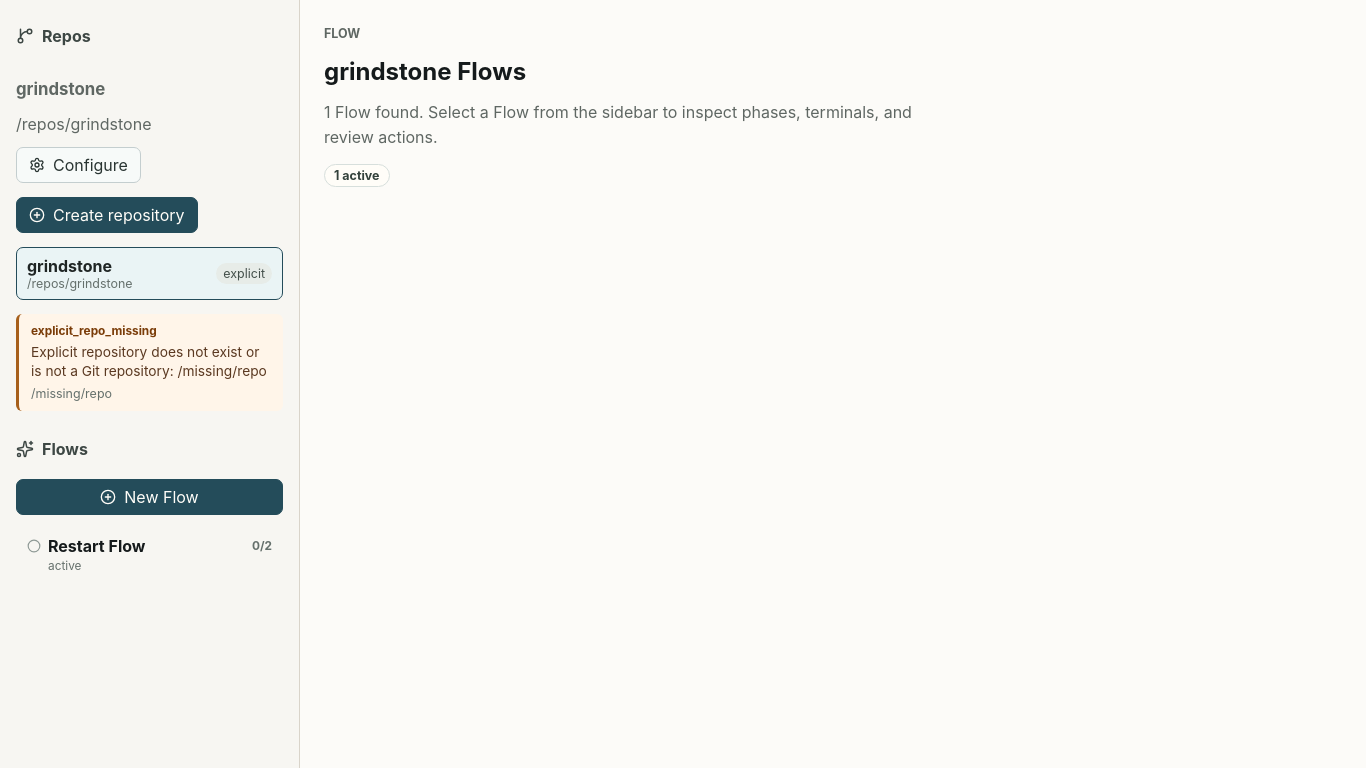
Test case: App shell › restarts a blocked phase from backend affordances and shows manual update errors
Click the button "Restart Flow 0/2 active" at (97, 546), box [16, 527, 283, 582]
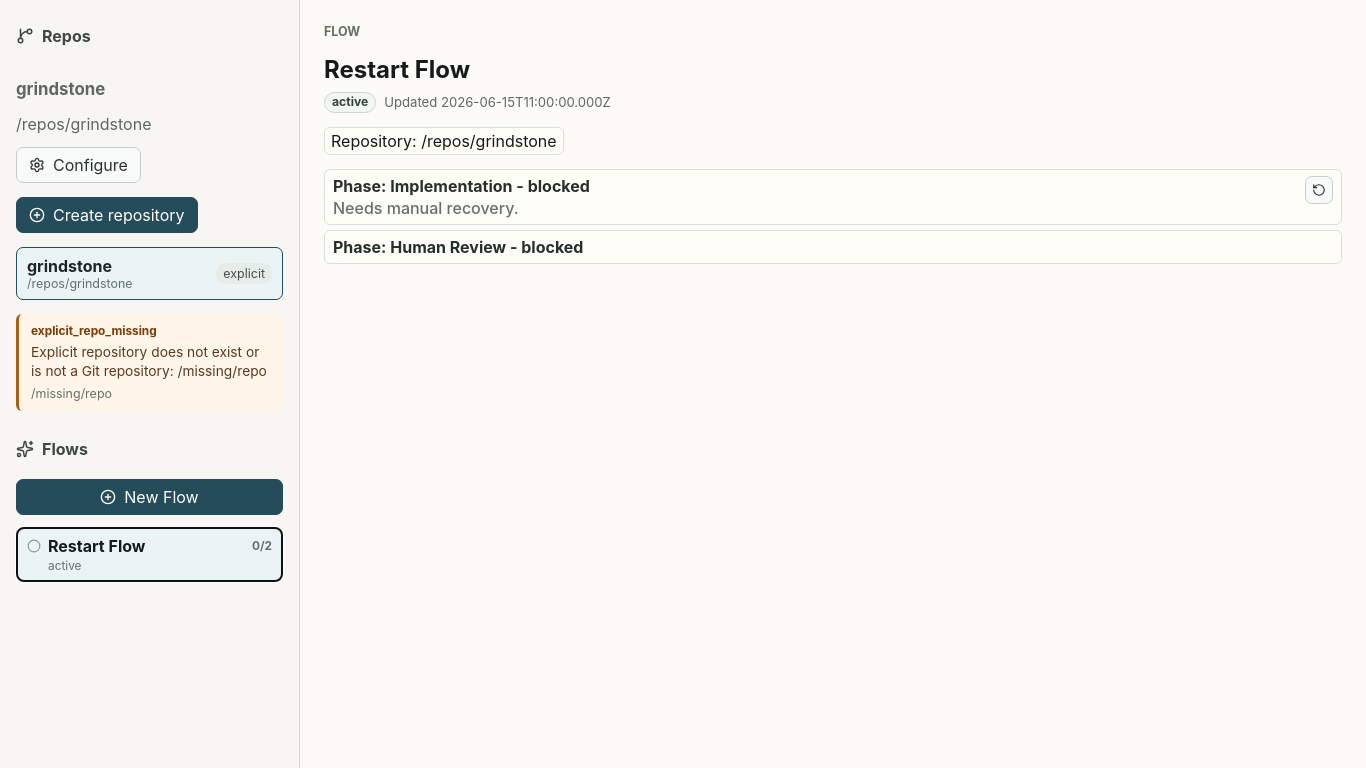
Click the button named "restart implementation" at (1319, 190), box [1305, 176, 1333, 204]
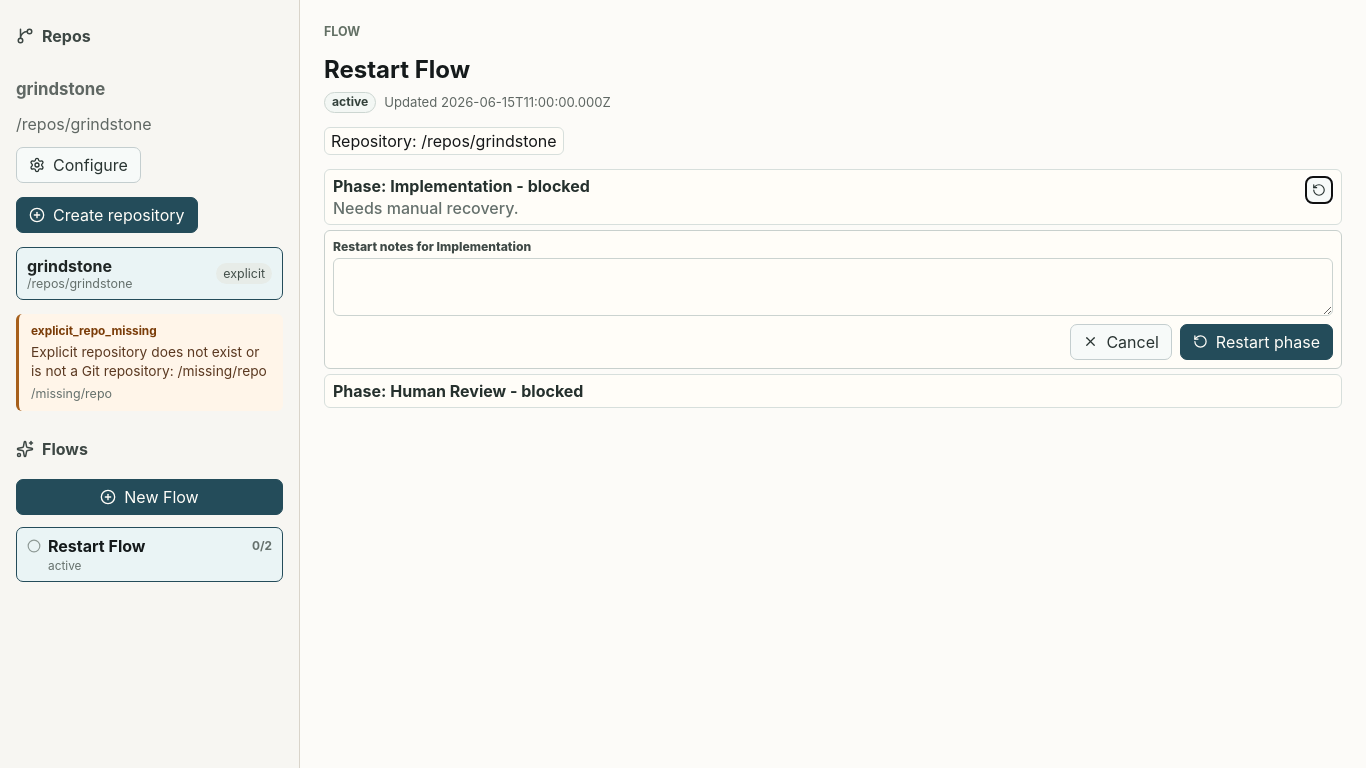
Click the button "Restart phase" at (1256, 342), box [1180, 324, 1333, 360]
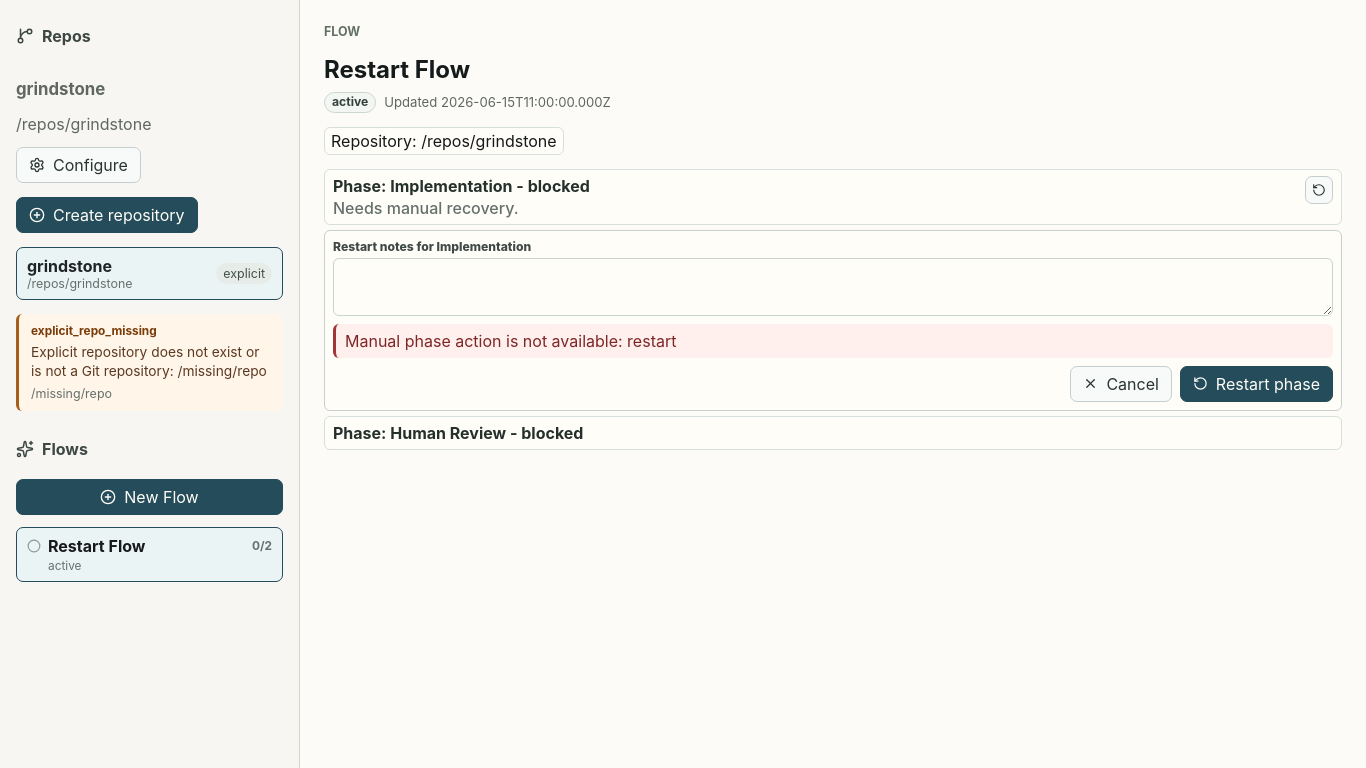
Now the message "Manual phase action is not available: restart" is shown, box [333, 324, 1333, 358]
Click the button "Restart phase" at (1256, 384), box [1180, 366, 1333, 402]
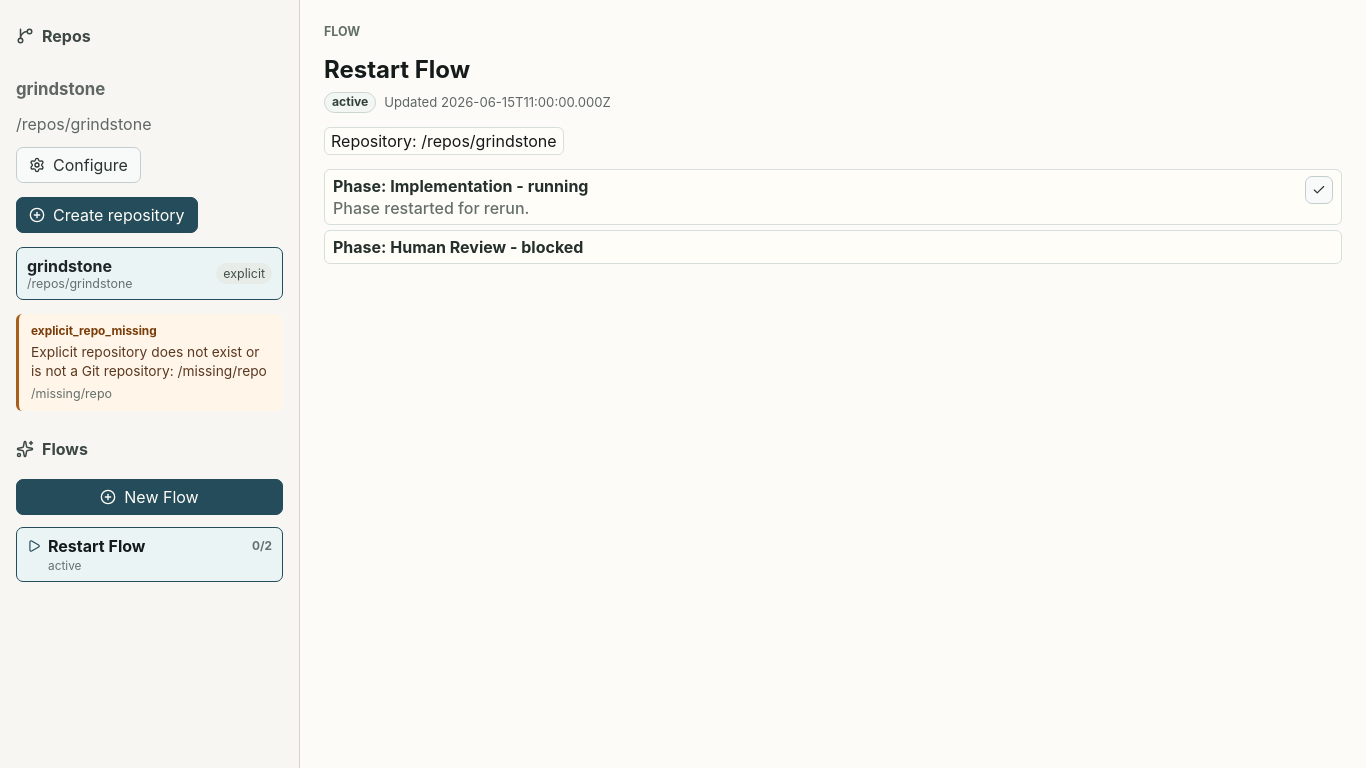
Now the text "Phase: Implementation - running" is shown, box [333, 176, 588, 196]
Now the text "Phase restarted for rerun." is shown, box [333, 198, 529, 218]
